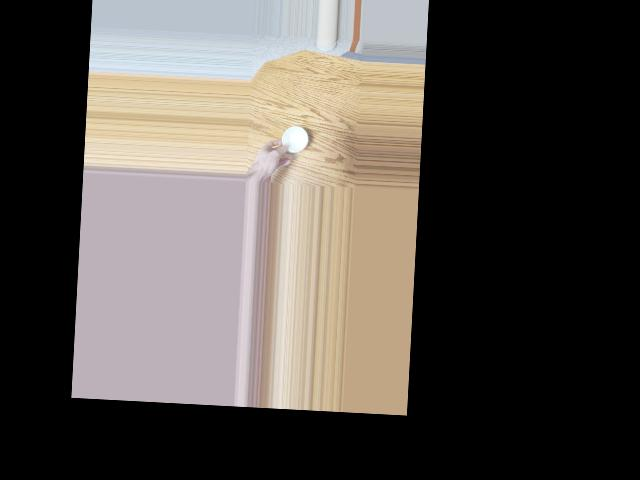cotage: (278, 125, 309, 155)
